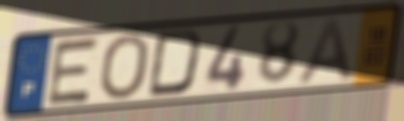4: (204, 22, 249, 93)
8: (254, 20, 302, 90)
A: (295, 16, 358, 87)
D: (144, 27, 206, 100)
E: (43, 34, 103, 108)
O: (96, 32, 152, 102)
